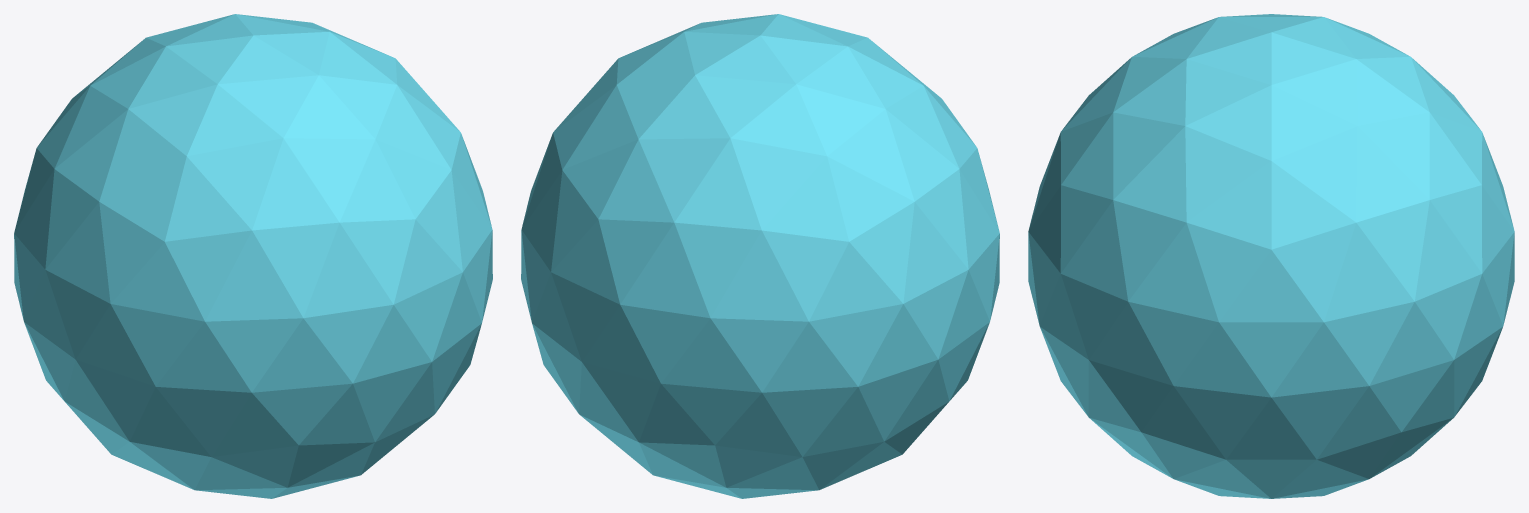
The model's file is Spore_01.fbx.
The picture shows the model from 3 angles, left to right: view 1: azimuth 30°, elevation 25°; view 2: azimuth 150°, elevation 25°; view 3: azimuth 270°, elevation 25°; orthographic projection.
Parts seen in each view (by area): view 1: Spore_01; view 2: Spore_01; view 3: Spore_01.
Part boxes in pixels (<box>): Spore_01: <box>14,14,492,498</box>; Spore_01: <box>521,14,999,498</box>; Spore_01: <box>1028,14,1514,498</box>.
Bounding box in the file's own units: 4.55 × 4.61 × 4.54.
